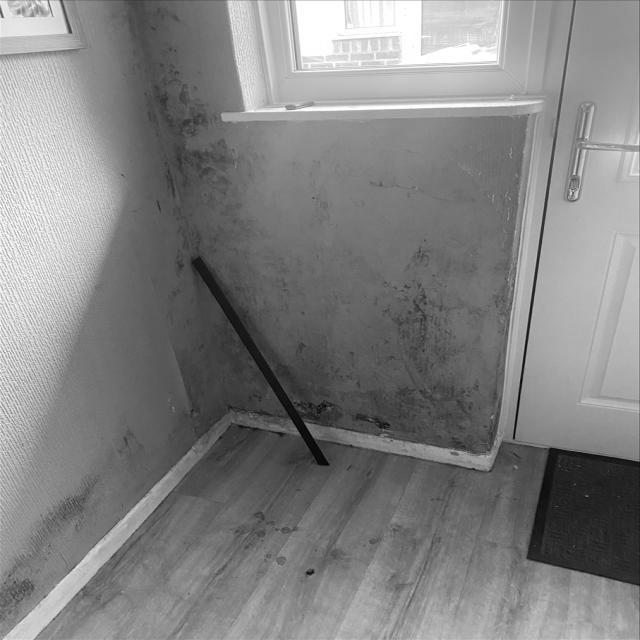stain marks: (114, 0, 514, 463), (0, 434, 153, 637)
